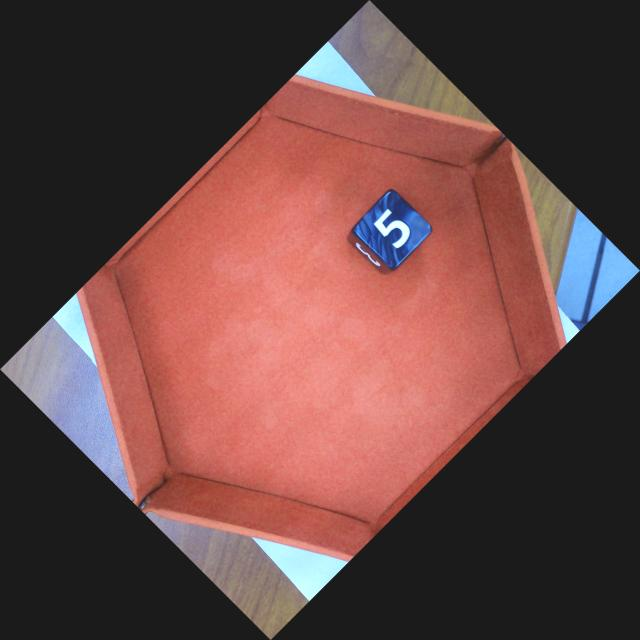dice: (353, 188, 434, 273)
